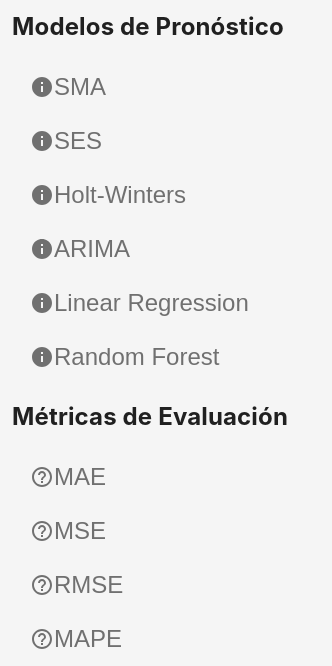
Test case: Tooltips and Informative Elements › Model Information Tooltips › displays tooltip for SES model on hover
Hover over the button with aria-label "Información sobre SES": [66, 141] box [22, 119, 110, 163]
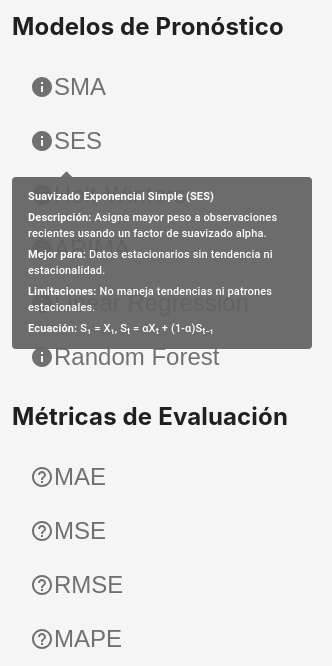
Now the text "Suavizado Exponencial Simple (SES)" is shown, box [28, 190, 214, 203]
Now the text "Asigna mayor peso a observaciones recientes" is shown, box [28, 210, 277, 240]
Now the text "Datos estacionarios sin tendencia" is shown, box [28, 248, 273, 277]
